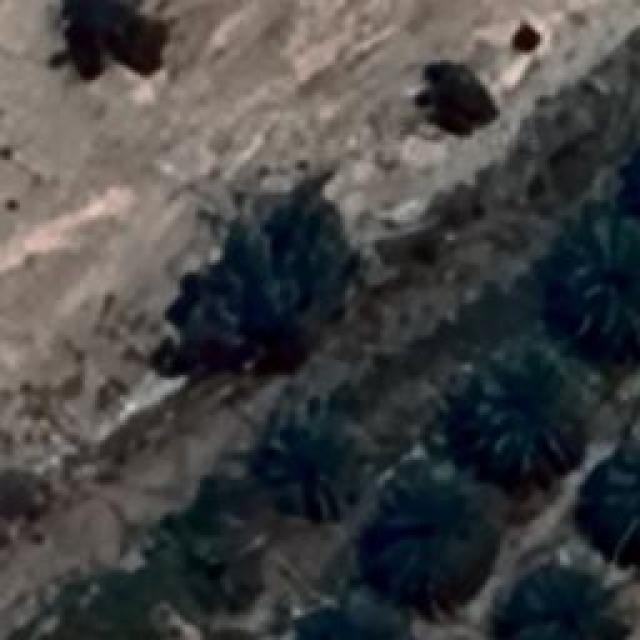PalmTree: (100, 110, 348, 623), (118, 34, 310, 456), (364, 472, 478, 600), (446, 356, 572, 466), (209, 258, 320, 378), (555, 210, 640, 350), (504, 562, 632, 640), (585, 446, 640, 562), (0, 463, 46, 538)
